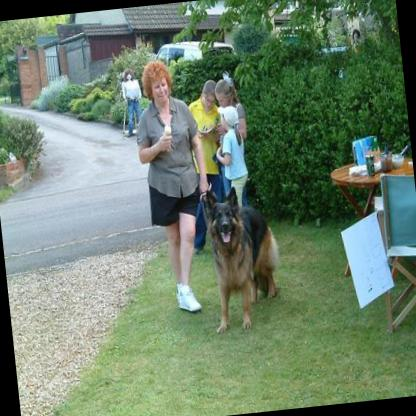German_shepherd: (202, 181, 282, 331)
